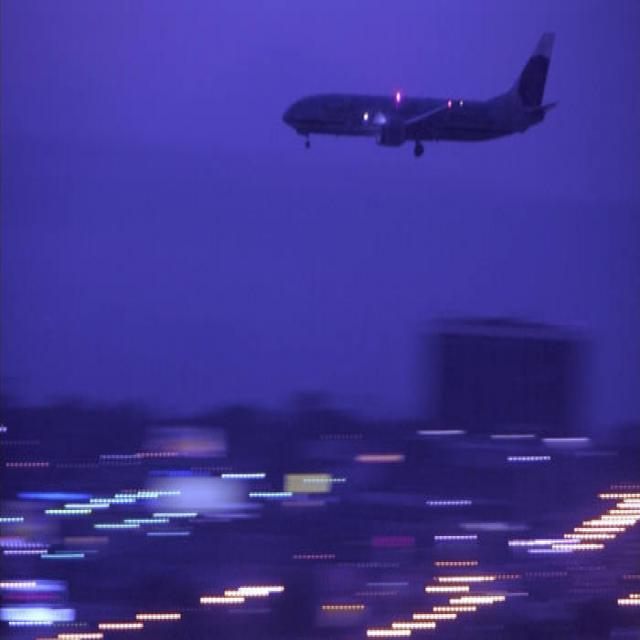plane: (280, 20, 564, 158)
